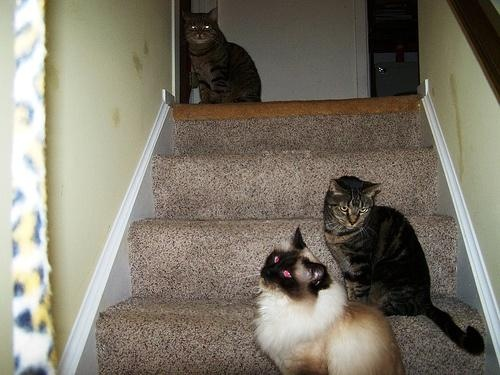cat: (323, 174, 487, 358), (256, 225, 409, 375), (178, 4, 263, 104)
